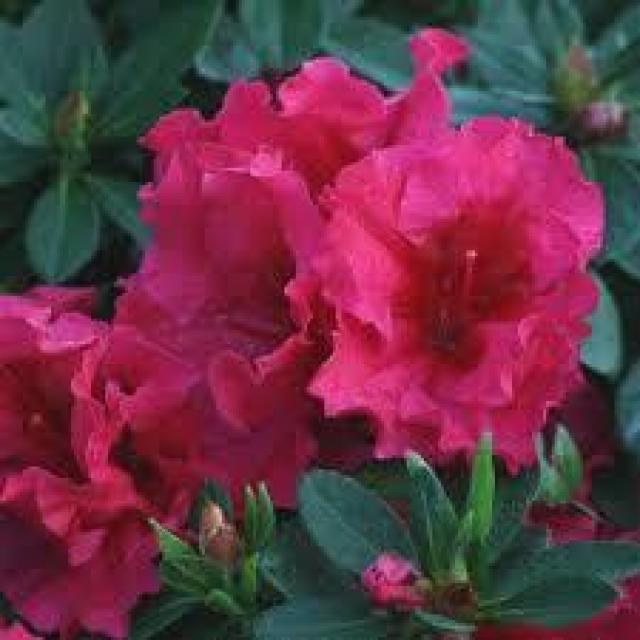organic waste: (129, 51, 502, 393), (279, 108, 597, 469), (11, 297, 236, 610)
